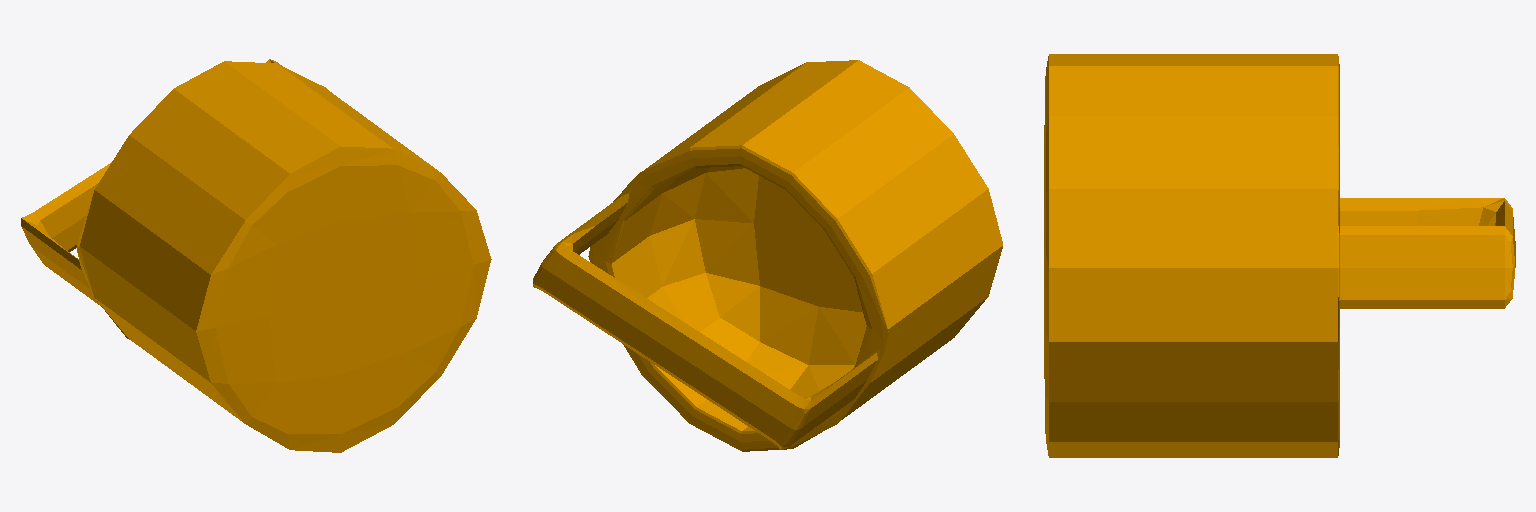
robot.urdf — 135:
<?xml version="1.0" ?>
<robot name="135">
  <link name="body">
    <visual>
      <geometry>
        <mesh filename="../shapes/135.obj"/>
      </geometry>
    </visual>
    <collision>
      <geometry>
        <mesh filename="../shapes/135.obj"/>
      </geometry>
    </collision>
  </link>
</robot>

--- What the picture shows (computed from the rendered views, not written in the file) ---
The picture shows the robot from 3 angles, left to right: view 1: azimuth 30°, elevation 25°; view 2: azimuth 150°, elevation 25°; view 3: azimuth 270°, elevation 25°; orthographic projection.
Robot: 135 — 1 links, 0 joints (none); root link body; default pose: all joints at 0.
Visible links, largest first — view 1: body; view 2: body; view 3: body.
Boxes of the visible links, x1,y1,x2,y2 form: body: (21,59,491,452); body: (533,60,1002,451); body: (1044,54,1515,457).
Bounding box of the posed robot: 2.88 × 3.15 × 2.8 m (x, y, z).
1 mesh visuals loaded from 1 distinct referenced files (1 OBJ).